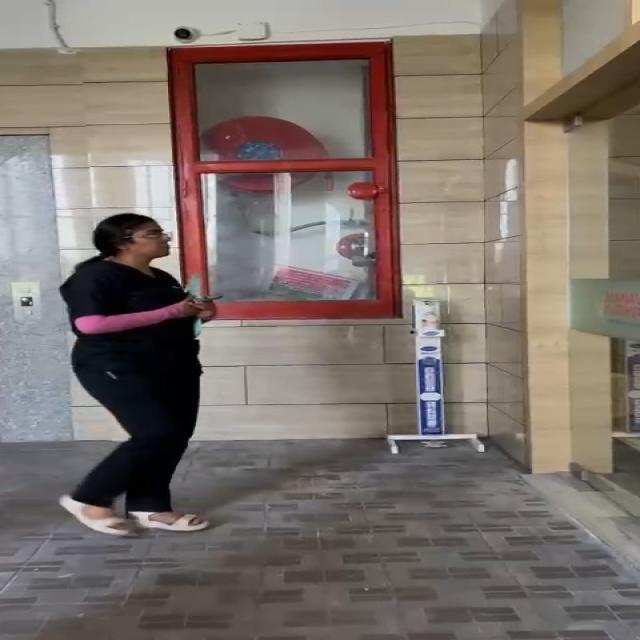floor: (0, 457, 640, 640)
moving_object: (46, 206, 217, 542)
wall: (398, 21, 603, 416), (12, 59, 162, 210)
